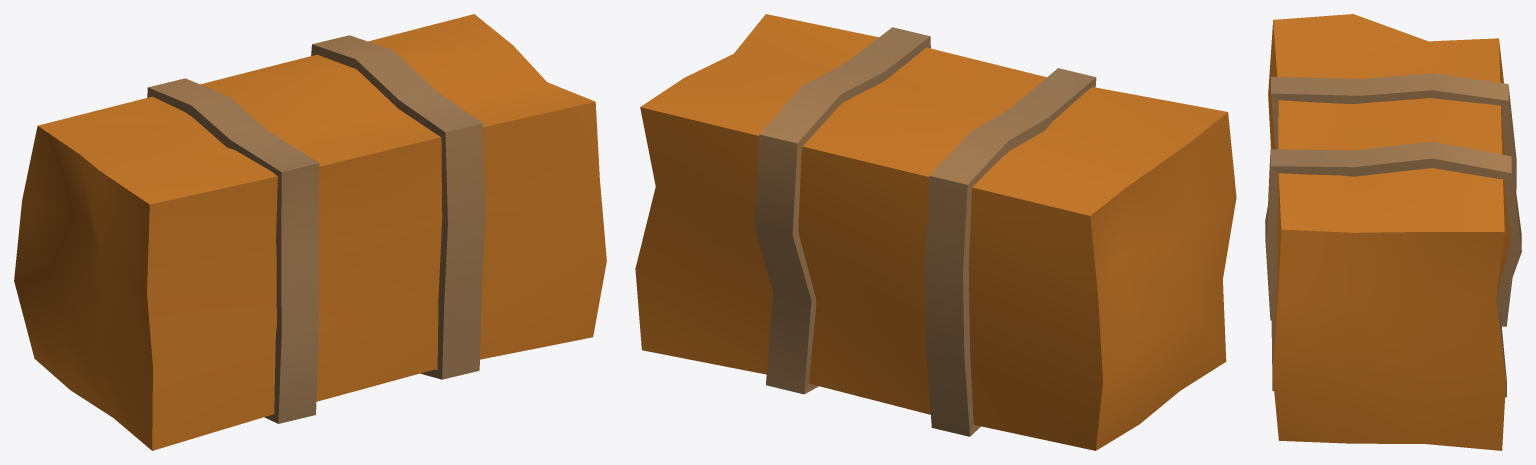
Rendered from Hay_Cube.fbx.
3 renders of one model, left to right at view 1: azimuth 30°, elevation 25°; view 2: azimuth 150°, elevation 25°; view 3: azimuth 270°, elevation 25°, orthographic. The views are drawn at different scales.
Parts seen in each view (by area): view 1: Hay_Cube; view 2: Hay_Cube; view 3: Hay_Cube.
Boxes of the visible parts, x1,y1,x2,y2 form: Hay_Cube: (14,14,606,450); Hay_Cube: (635,14,1236,450); Hay_Cube: (1265,14,1521,450).
Bounding box in the file's own units: 0.5392 × 0.3034 × 0.2815.
